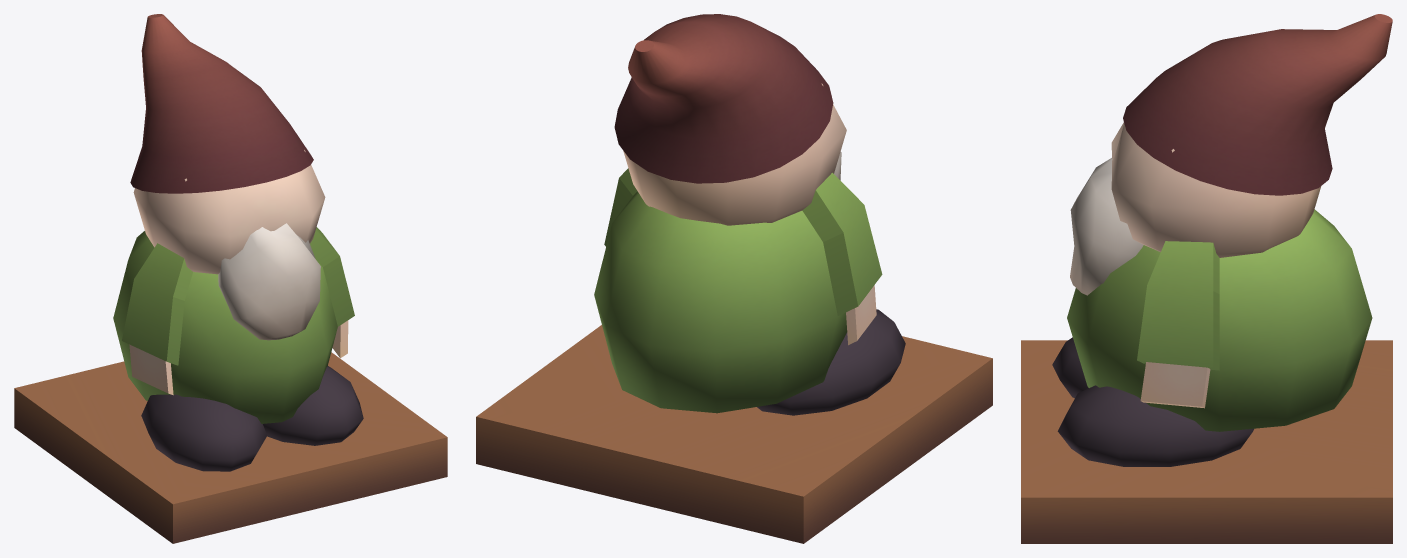
Rendered from M_dwarf.FBX.
3 views of the same model, side by side, from view 1: azimuth 30°, elevation 25°; view 2: azimuth 150°, elevation 25°; view 3: azimuth 270°, elevation 25° (orthographic). The views are drawn at different scales.
Visible parts, largest first — view 1: Box002; view 2: Box002; view 3: Box002.
Boxes of the visible parts, x1,y1,x2,y2 form: Box002: [14, 14, 447, 543]; Box002: [476, 14, 992, 543]; Box002: [1021, 14, 1392, 543].
Size of the model in its own units: 18.66 by 18.66 by 24.86.
